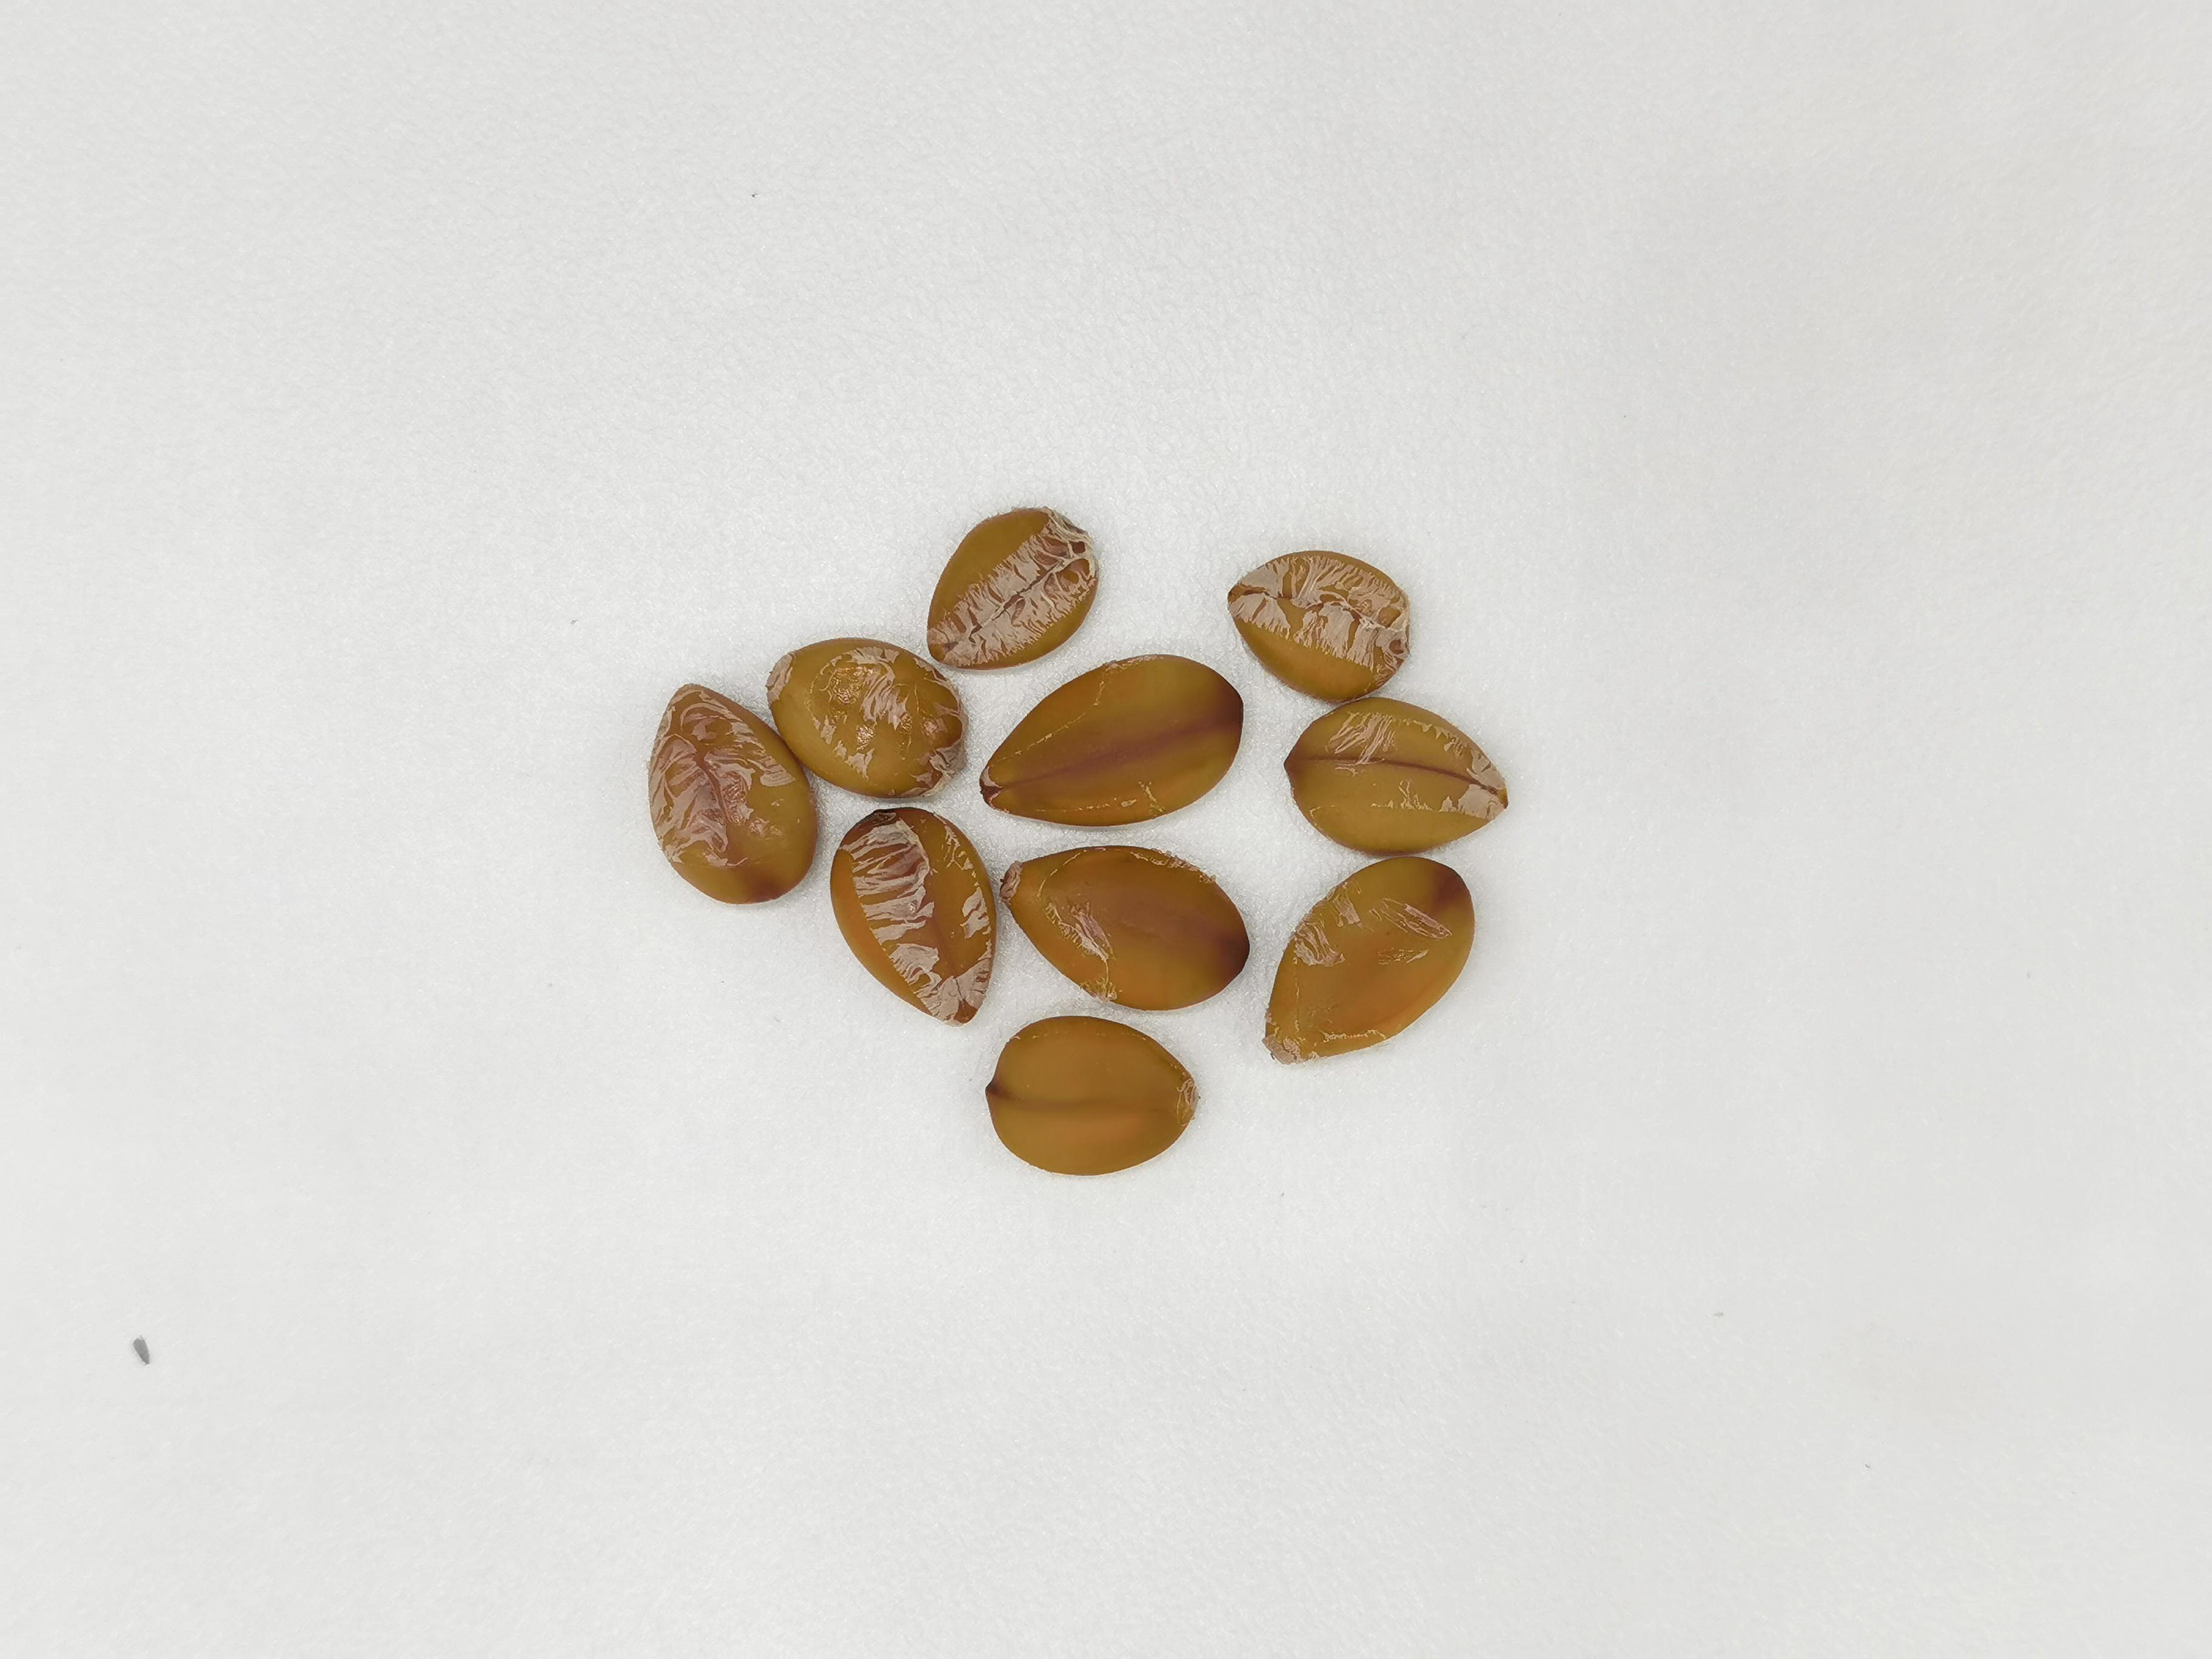seed: (977, 648, 1245, 828), (1263, 854, 1475, 1060), (998, 842, 1256, 1011), (646, 680, 822, 906), (1280, 692, 1508, 852), (986, 1014, 1207, 1178), (829, 805, 993, 1026), (768, 636, 970, 796), (928, 500, 1099, 669), (1230, 549, 1413, 704)
